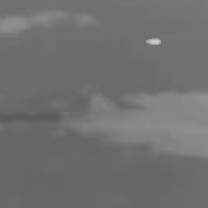Target: (145, 37, 162, 46)
